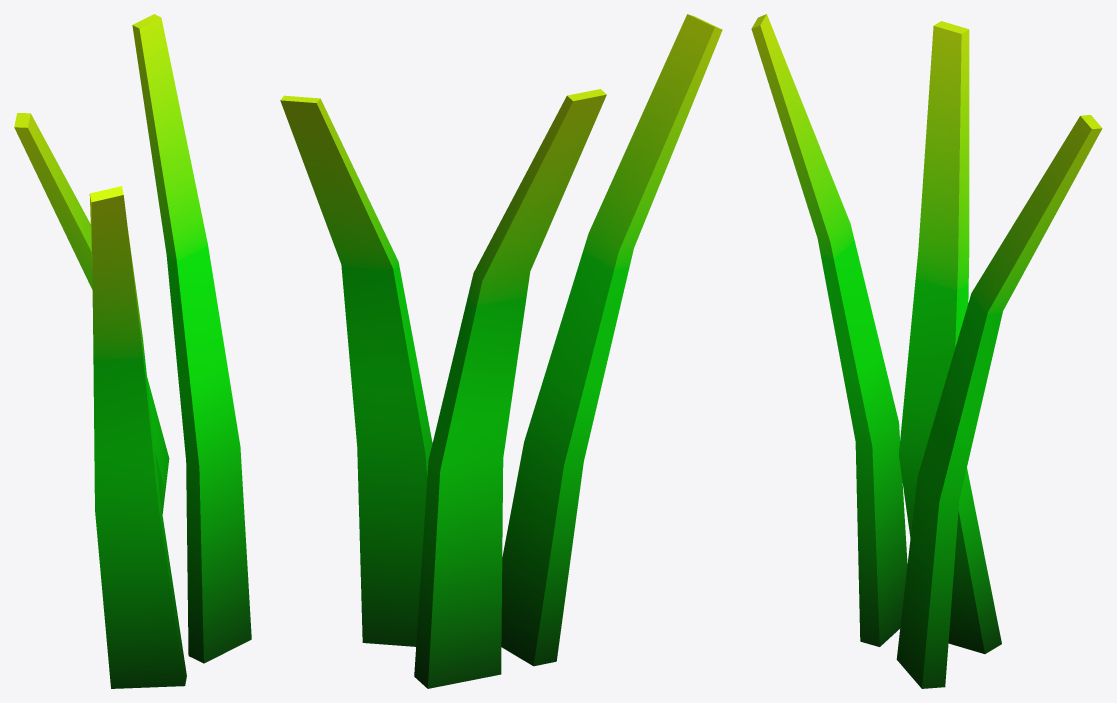
Rendered from hierba.FBX.
3 views of the same model, side by side, from view 1: azimuth 30°, elevation 25°; view 2: azimuth 150°, elevation 25°; view 3: azimuth 270°, elevation 25° (orthographic). The views are drawn at different scales.
Visible parts, largest first — view 1: hierba248; view 2: hierba248; view 3: hierba248.
Boxes of the visible parts, x1=… form: hierba248: x1=14, y1=14, x2=251, y2=688; hierba248: x1=280, y1=14, x2=722, y2=688; hierba248: x1=751, y1=14, x2=1102, y2=688.
Size of the model in its own units: 0.3689 by 0.8197 by 0.4648.
